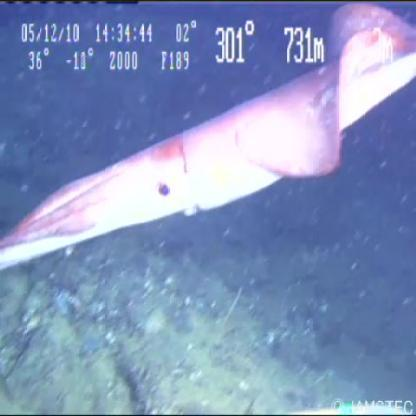Bio: (0, 1, 416, 274)
